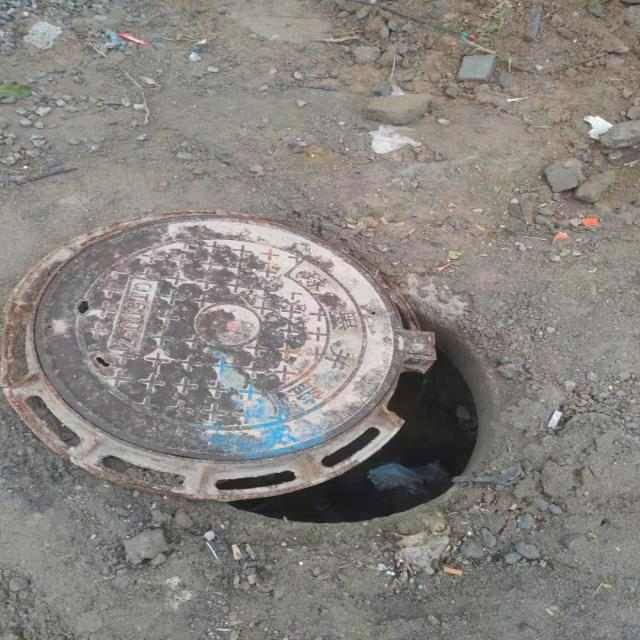Lose: (7, 211, 494, 521)
